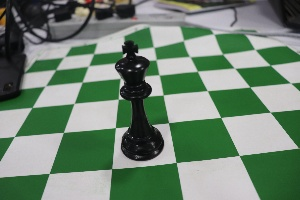black_king: (101, 27, 170, 164)
